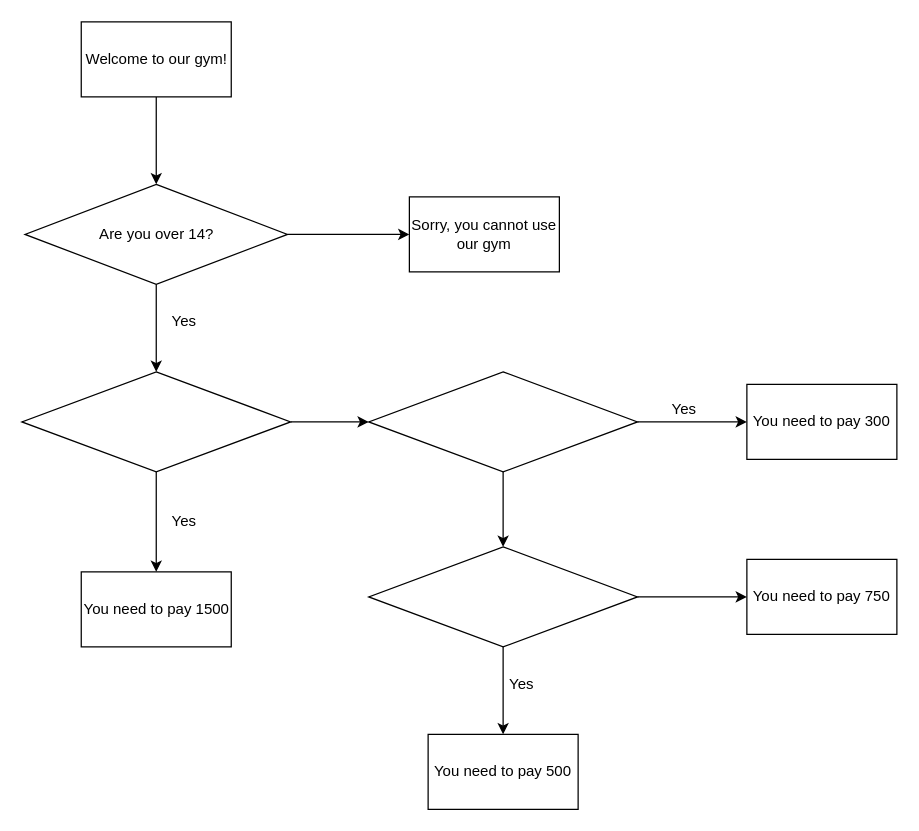
Image size: 919x831. Some labels were removed from this diagram. The centre of each missing label's shape, as x and y in pixels:
"Are you a man?" belongs at (x=503, y=596).
"Are you a student?" belongs at (x=503, y=421).
"Using sauna?" belongs at (x=156, y=421).
